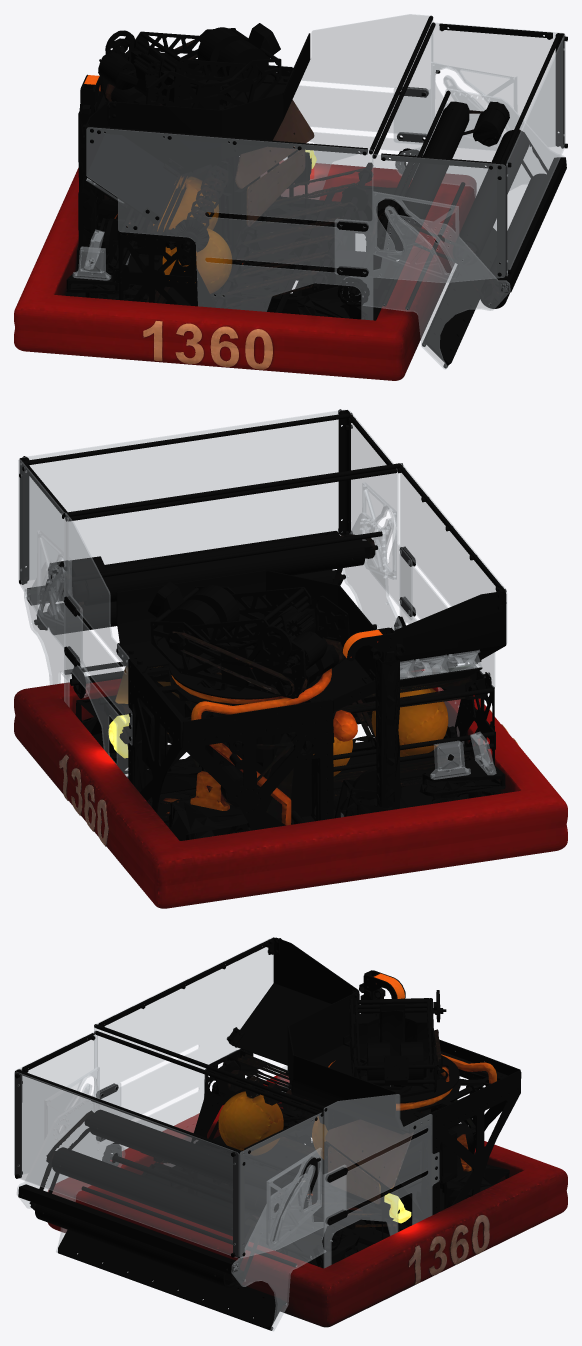
File: robot.glb
3 renders of one model, top to bottom at view 1: azimuth 30°, elevation 25°; view 2: azimuth 150°, elevation 25°; view 3: azimuth 270°, elevation 25°, orthographic. The views are drawn at different scales.
Visible parts, largest first — view 1: NEW_robot_root__mesh, NEW_robot_root__glass_robot_polycarbonate.001; view 2: NEW_robot_root__mesh, NEW_robot_root__glass_robot_polycarbonate.001; view 3: NEW_robot_root__mesh, NEW_robot_root__glass_robot_polycarbonate.001.
Part boxes in pixels (x1,y1,x2,y2): NEW_robot_root__mesh: (14, 15, 567, 380); NEW_robot_root__glass_robot_polycarbonate.001: (73, 14, 566, 369); NEW_robot_root__mesh: (14, 409, 567, 908); NEW_robot_root__glass_robot_polycarbonate.001: (18, 410, 506, 817); NEW_robot_root__mesh: (15, 937, 567, 1330); NEW_robot_root__glass_robot_polycarbonate.001: (14, 938, 439, 1331).
Bounding box in the file's own units: 1.3 × 0.5543 × 1.27.
Materials: 4 (1 with a texture image).
